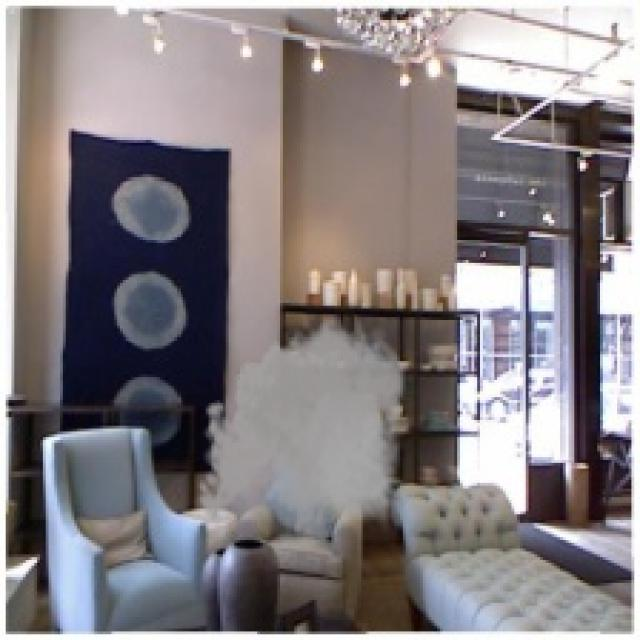smoke: (192, 308, 414, 566)
